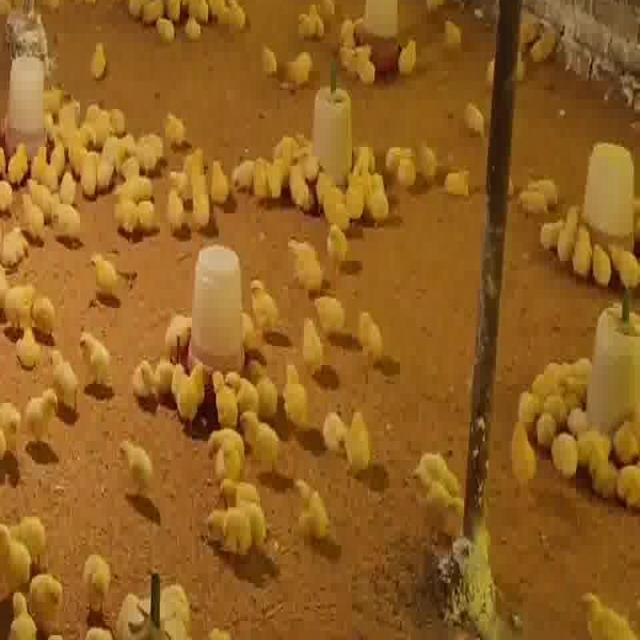poussin: (572, 581, 638, 640), (198, 502, 270, 550), (413, 466, 462, 526), (247, 410, 293, 472), (79, 327, 116, 400), (114, 438, 158, 498), (0, 516, 34, 582), (50, 348, 84, 414), (23, 384, 60, 442), (283, 357, 312, 428), (203, 422, 249, 466), (29, 567, 65, 623), (301, 479, 334, 540), (310, 284, 352, 330), (512, 430, 543, 492), (250, 272, 282, 330), (364, 308, 394, 364), (82, 547, 112, 601), (5, 277, 38, 326), (0, 396, 23, 466), (214, 364, 242, 420), (288, 158, 317, 212), (288, 234, 318, 286), (214, 472, 264, 502), (228, 366, 260, 412), (300, 313, 326, 368), (175, 359, 198, 421), (88, 249, 119, 295), (348, 410, 372, 469), (55, 200, 90, 239), (588, 453, 621, 494), (613, 236, 639, 288), (22, 184, 47, 237), (566, 225, 591, 278), (134, 128, 166, 167), (324, 407, 352, 450), (18, 324, 46, 366), (133, 355, 160, 398), (326, 191, 359, 226), (212, 160, 236, 208), (33, 290, 61, 329), (551, 426, 577, 468), (266, 152, 286, 205), (78, 146, 100, 194), (13, 589, 33, 640), (555, 353, 590, 382), (258, 370, 282, 412), (0, 220, 28, 256), (192, 176, 213, 224), (463, 93, 486, 135), (6, 134, 28, 177), (286, 46, 312, 82), (398, 35, 422, 74), (526, 174, 562, 200), (156, 354, 177, 398), (138, 196, 162, 234), (417, 136, 441, 174), (253, 152, 269, 208), (122, 158, 148, 192), (621, 462, 640, 508), (443, 167, 473, 196), (164, 106, 188, 142), (115, 194, 141, 227), (232, 154, 257, 188), (88, 100, 112, 135), (516, 386, 538, 424), (593, 240, 611, 285), (577, 428, 608, 454), (557, 213, 574, 260), (357, 44, 378, 80), (32, 174, 54, 208), (338, 39, 358, 76), (183, 145, 208, 174), (56, 166, 78, 198), (527, 364, 556, 388), (544, 386, 567, 416), (395, 153, 417, 184), (91, 34, 108, 74), (62, 98, 82, 132), (164, 186, 184, 220), (316, 168, 340, 196), (518, 186, 548, 208), (538, 216, 560, 246), (264, 39, 282, 75), (538, 410, 556, 446), (51, 134, 67, 174), (371, 186, 392, 216), (100, 150, 118, 184), (446, 14, 464, 46), (335, 9, 353, 41), (152, 16, 176, 40), (297, 5, 317, 33), (110, 104, 128, 132), (32, 141, 46, 177), (387, 142, 412, 162), (157, 14, 178, 37), (172, 167, 192, 191), (353, 174, 384, 188), (184, 15, 202, 38), (234, 0, 247, 25), (188, 15, 202, 38)
